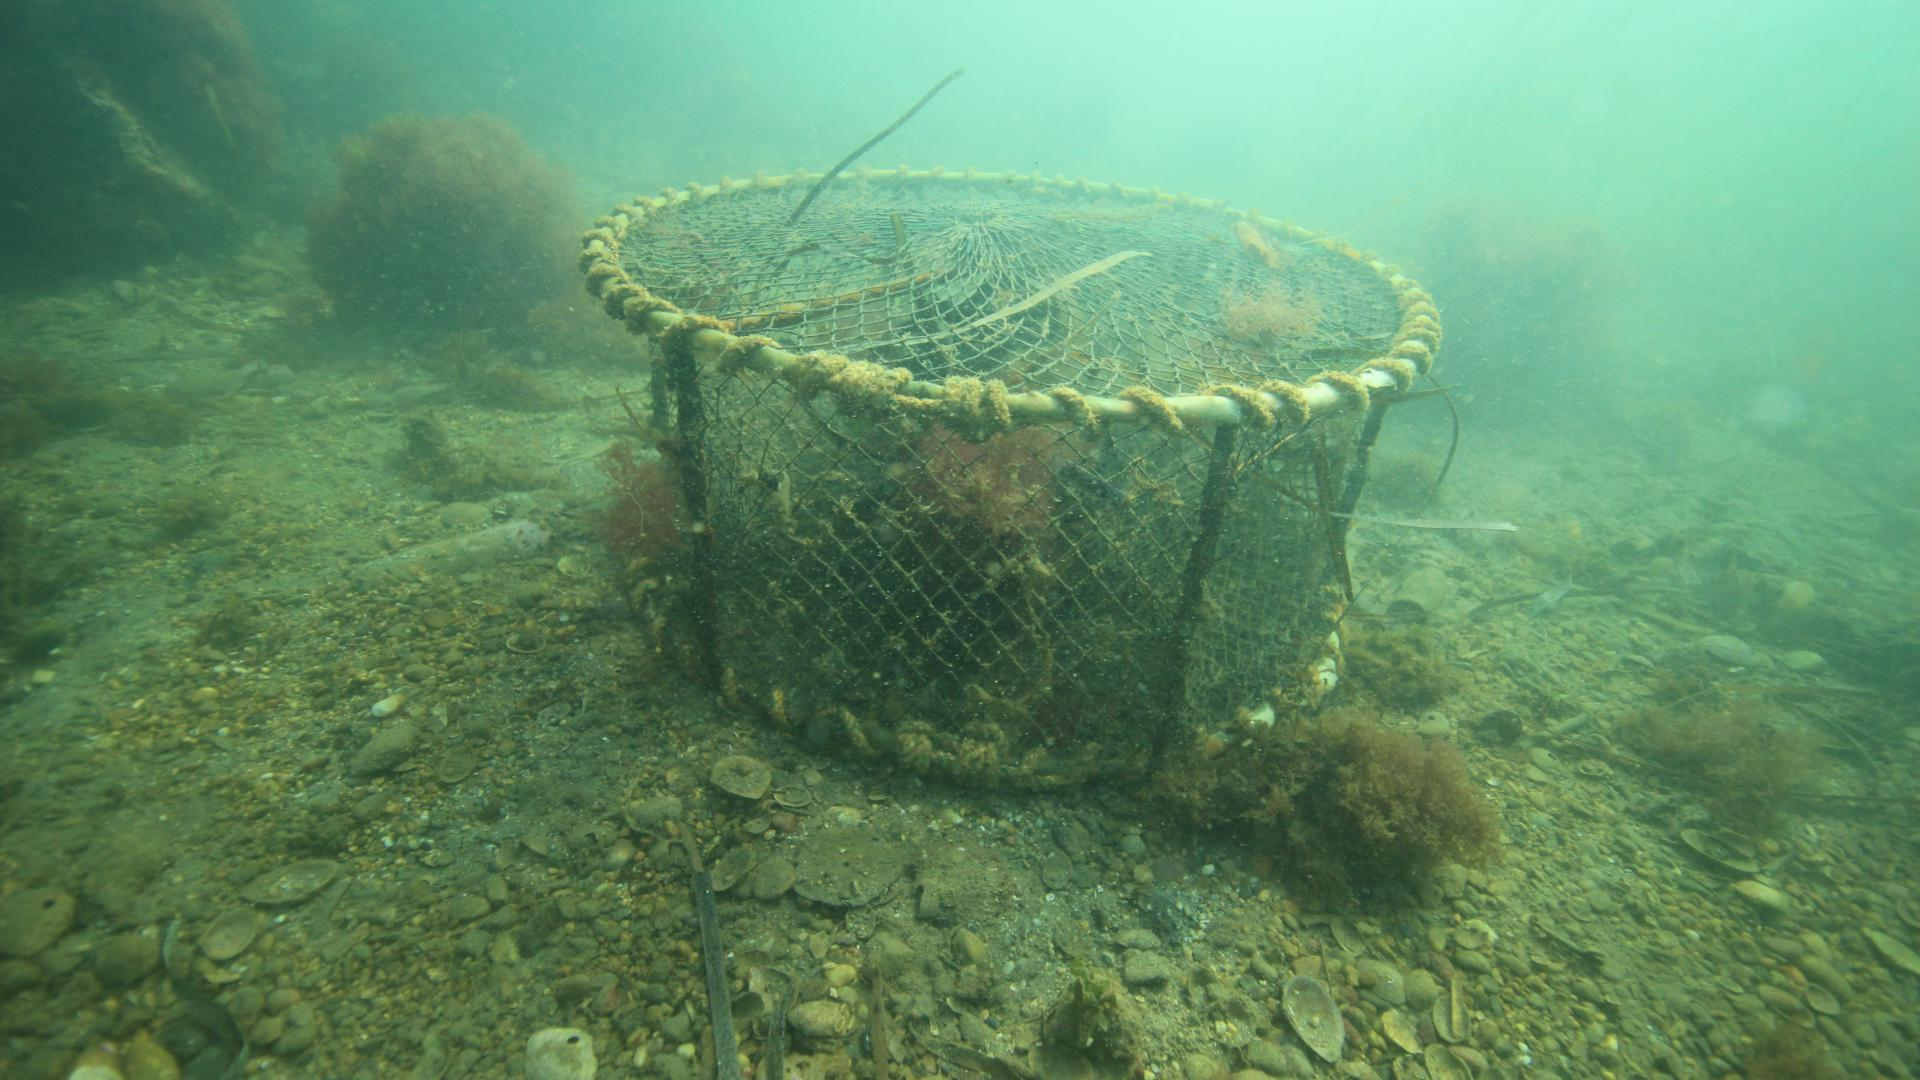circular fish trap: (576, 160, 1443, 791)
